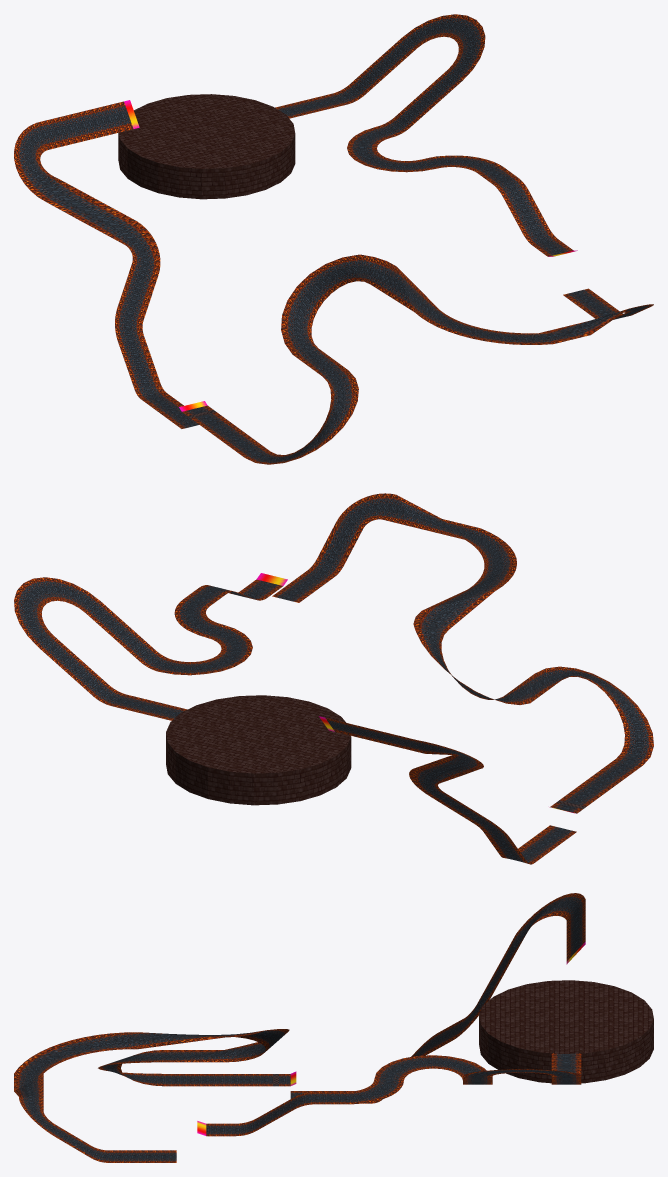
The picture shows the model from 3 angles, top to bottom: view 1: azimuth 30°, elevation 25°; view 2: azimuth 150°, elevation 25°; view 3: azimuth 270°, elevation 25°; orthographic projection. The views are drawn at different scales.
Parts seen in each view (by area): view 1: Legend_of_the_Seventh_Star_SKP__Material1, Legend_of_the_Seventh_Star_SKP__Material5; view 2: Legend_of_the_Seventh_Star_SKP__Material1, Legend_of_the_Seventh_Star_SKP__Material5; view 3: Legend_of_the_Seventh_Star_SKP__Material1, Legend_of_the_Seventh_Star_SKP__Material5.
Part boxes in pixels (x1,y1,x2,y2): Legend_of_the_Seventh_Star_SKP__Material1: (14, 14, 653, 464); Legend_of_the_Seventh_Star_SKP__Material5: (118, 94, 295, 199); Legend_of_the_Seventh_Star_SKP__Material1: (14, 493, 653, 864); Legend_of_the_Seventh_Star_SKP__Material5: (166, 695, 351, 805); Legend_of_the_Seventh_Star_SKP__Material1: (14, 893, 585, 1162); Legend_of_the_Seventh_Star_SKP__Material5: (479, 980, 653, 1083).
Size of what is drawn, in the model's own units: 60312 by 28761 by 75732.
Materials: 4 (4 with a texture image).
